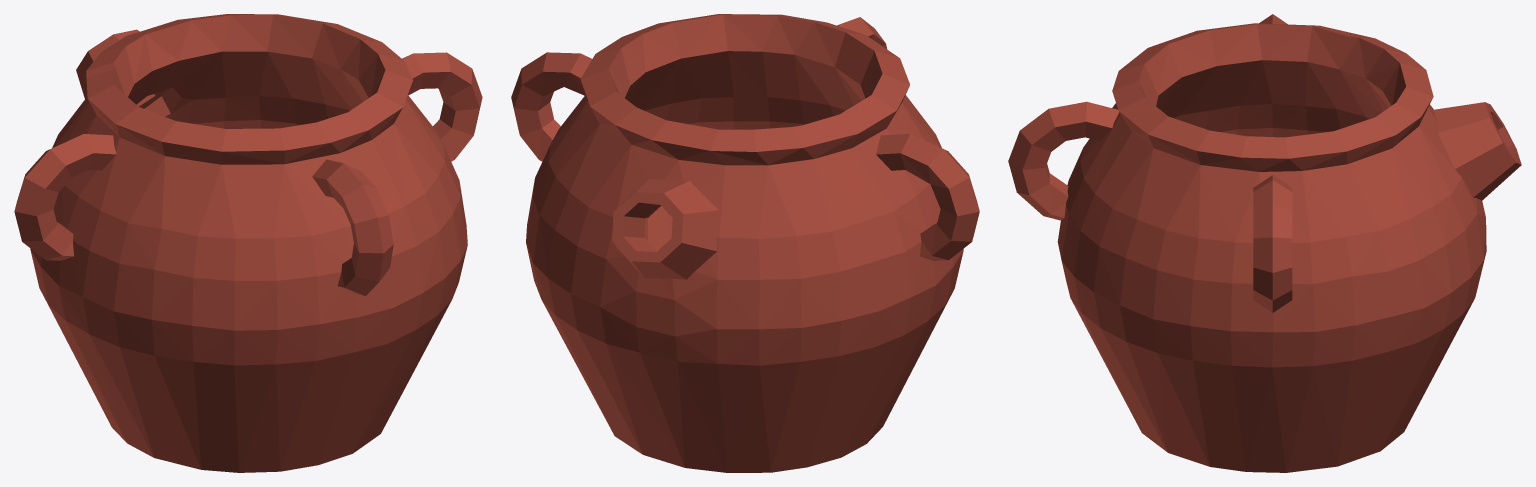
Rendered from Pottery 2_3b.fbx.
3 views of the same model, side by side, from view 1: azimuth 30°, elevation 25°; view 2: azimuth 150°, elevation 25°; view 3: azimuth 270°, elevation 25° (orthographic). The views are drawn at different scales.
Parts seen in each view (by area): view 1: Pottery 2_3b.001, Pottery 2_3b, Pottery 2_3b.005, Pottery 2_3b.002, Pottery 2_3b.003, Pottery 2_3b.004; view 2: Pottery 2_3b.004, Pottery 2_3b.002, Pottery 2_3b.006, Pottery 2_3b.001, Pottery 2_3b.003, Pottery 2_3b, Pottery 2_3b.005; view 3: Pottery 2_3b.003, Pottery 2_3b.001, Pottery 2_3b, Pottery 2_3b.004, Pottery 2_3b.002, Pottery 2_3b.005, Pottery 2_3b.006.
Boxes of the visible parts, x1,y1,x2,y2 form: Pottery 2_3b.001: [235, 70, 460, 364]; Pottery 2_3b: [75, 197, 467, 472]; Pottery 2_3b.005: [114, 121, 285, 361]; Pottery 2_3b.002: [14, 69, 175, 390]; Pottery 2_3b.003: [252, 14, 482, 221]; Pottery 2_3b.004: [59, 14, 275, 132]; Pottery 2_3b.004: [555, 92, 817, 336]; Pottery 2_3b.002: [786, 74, 979, 415]; Pottery 2_3b.006: [555, 279, 801, 421]; Pottery 2_3b.001: [660, 14, 886, 129]; Pottery 2_3b.003: [511, 22, 680, 389]; Pottery 2_3b: [587, 206, 951, 472]; Pottery 2_3b.005: [835, 32, 963, 248]; Pottery 2_3b.003: [1157, 117, 1471, 424]; Pottery 2_3b.001: [1008, 64, 1209, 327]; Pottery 2_3b: [1071, 270, 1431, 472]; Pottery 2_3b.004: [1339, 35, 1521, 276]; Pottery 2_3b.002: [1199, 14, 1379, 137]; Pottery 2_3b.005: [1119, 30, 1216, 128]; Pottery 2_3b.006: [1405, 254, 1485, 404].
Size of the model in its own units: 91.31 by 63.81 by 88.61.
